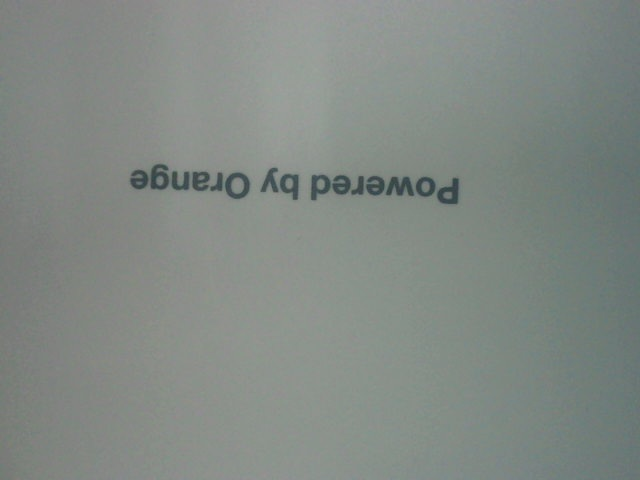AS_PowerByOrange: (123, 149, 463, 217)
